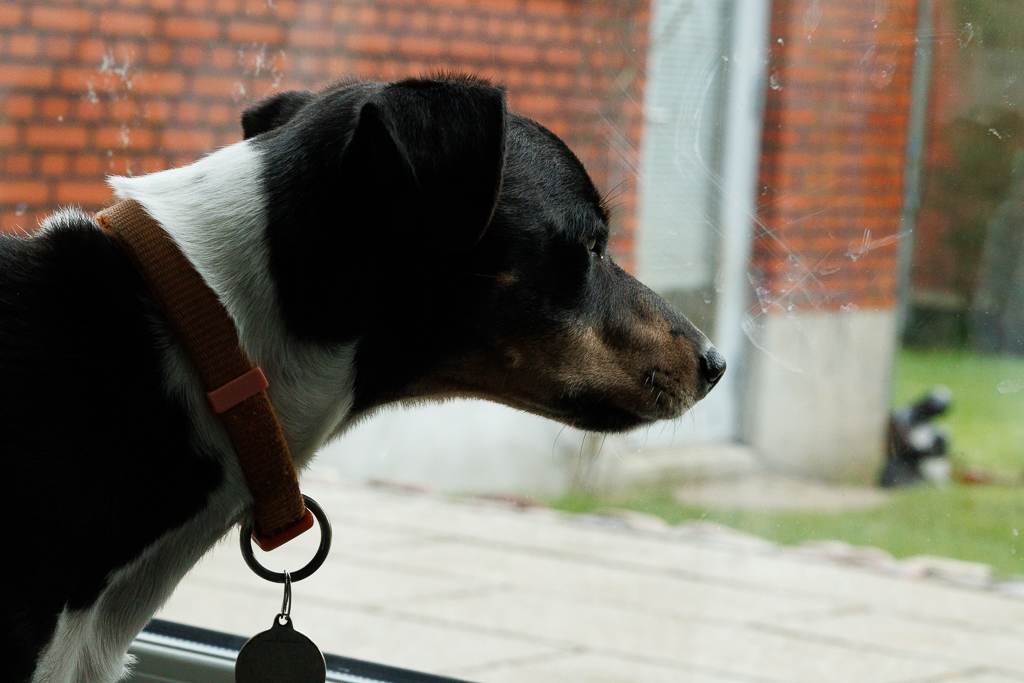Dog: (0, 65, 738, 683)
Humanoid: (862, 367, 966, 508)
